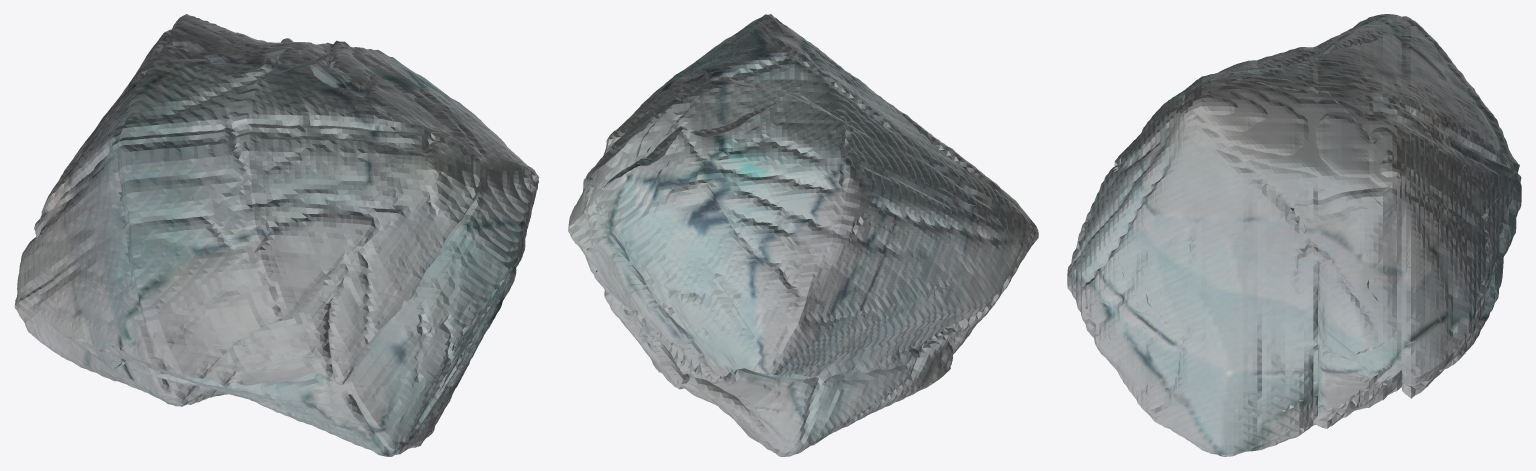
Rendered from scholae.glb.
3 renders of one model, left to right at view 1: azimuth 30°, elevation 25°; view 2: azimuth 150°, elevation 25°; view 3: azimuth 270°, elevation 25°, orthographic. The views are drawn at different scales.
Parts seen in each view (by area): view 1: world; view 2: world; view 3: world.
Part boxes in pixels (x1,y1,x2,y2): world: [14, 14, 539, 456]; world: [568, 14, 1038, 456]; world: [1067, 14, 1521, 456].
Bounding box in the file's own units: 0.9999 × 0.8428 × 0.8892.
